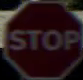Stop: (5, 3, 79, 76)
